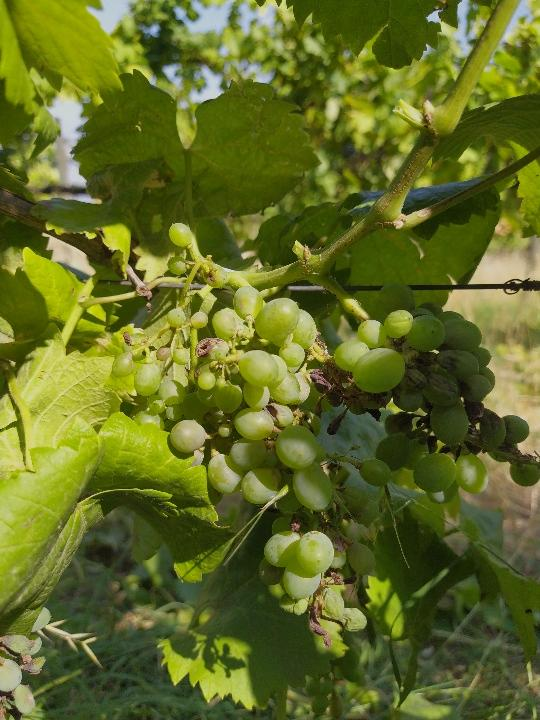grape: (109, 220, 391, 648), (332, 281, 536, 507)
